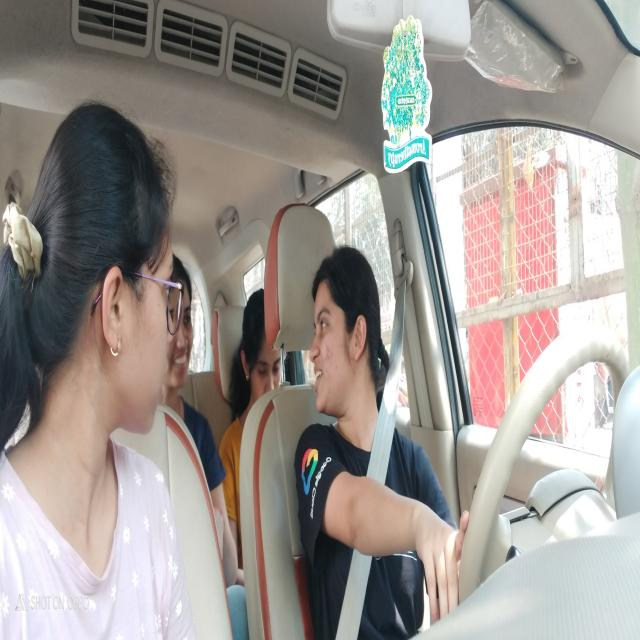LeftRight: (306, 237, 387, 425)
person: (34, 93, 174, 456), (238, 287, 280, 409), (170, 254, 198, 392)
talking: (310, 362, 325, 392)
